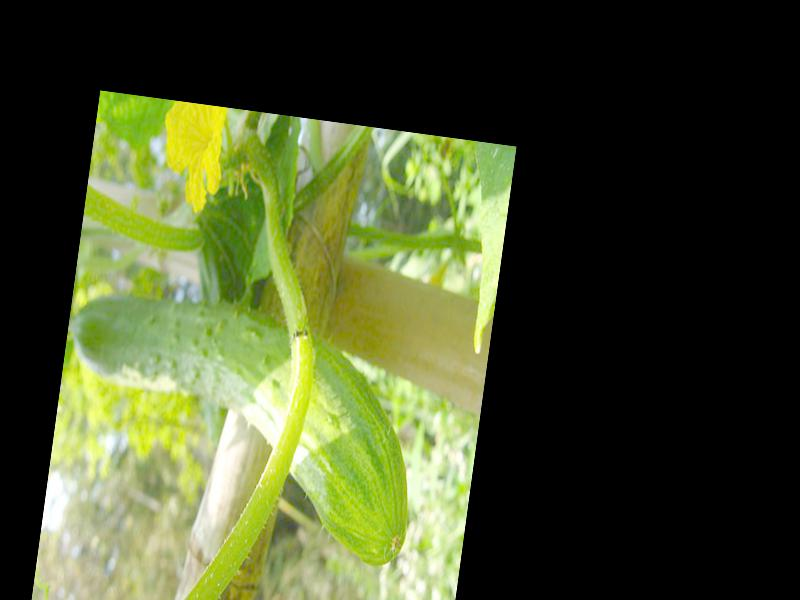Cucumber: (45, 285, 433, 566)
